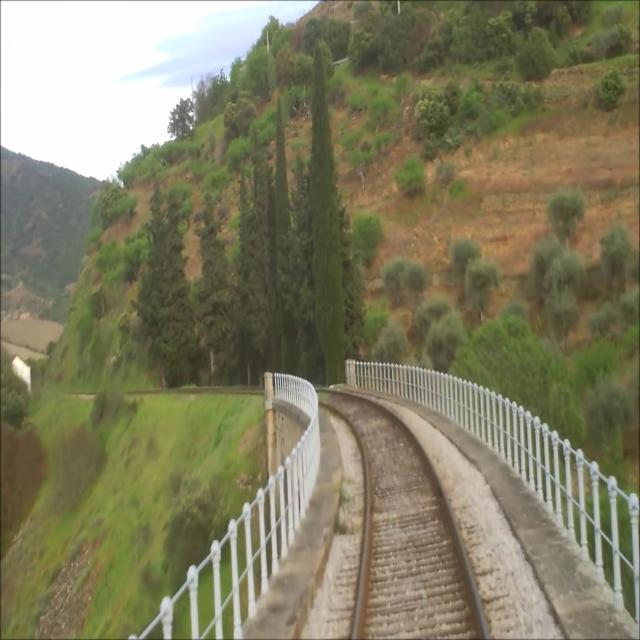rail-track: (317, 393, 485, 639)
